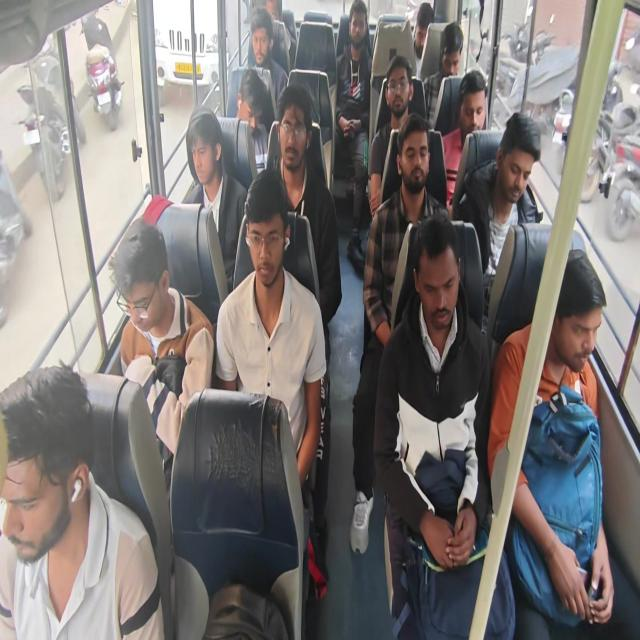person: (373, 211, 516, 638), (487, 247, 615, 636), (0, 361, 165, 638), (349, 111, 450, 554), (265, 82, 342, 578), (215, 168, 326, 490), (108, 217, 214, 488), (455, 111, 542, 334), (266, 83, 342, 326), (183, 105, 248, 292), (334, 0, 372, 271), (367, 55, 421, 219), (441, 69, 487, 216), (247, 7, 288, 120), (422, 22, 464, 128), (235, 67, 270, 171), (412, 2, 434, 78)
